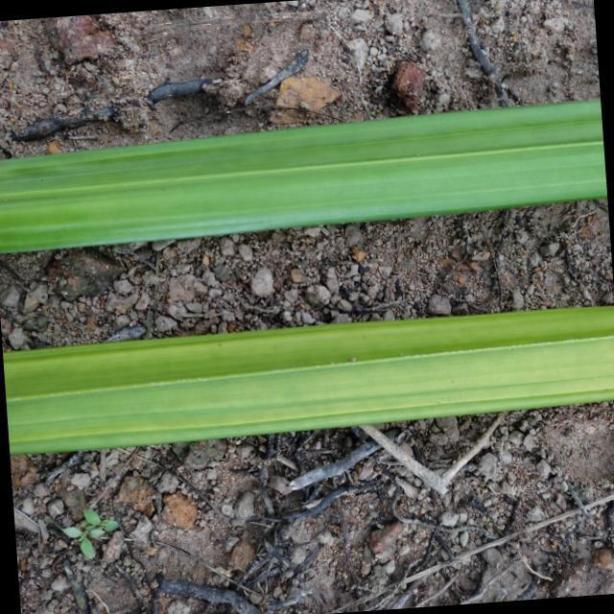nitrogen: (1, 94, 614, 255), (0, 302, 614, 457)
